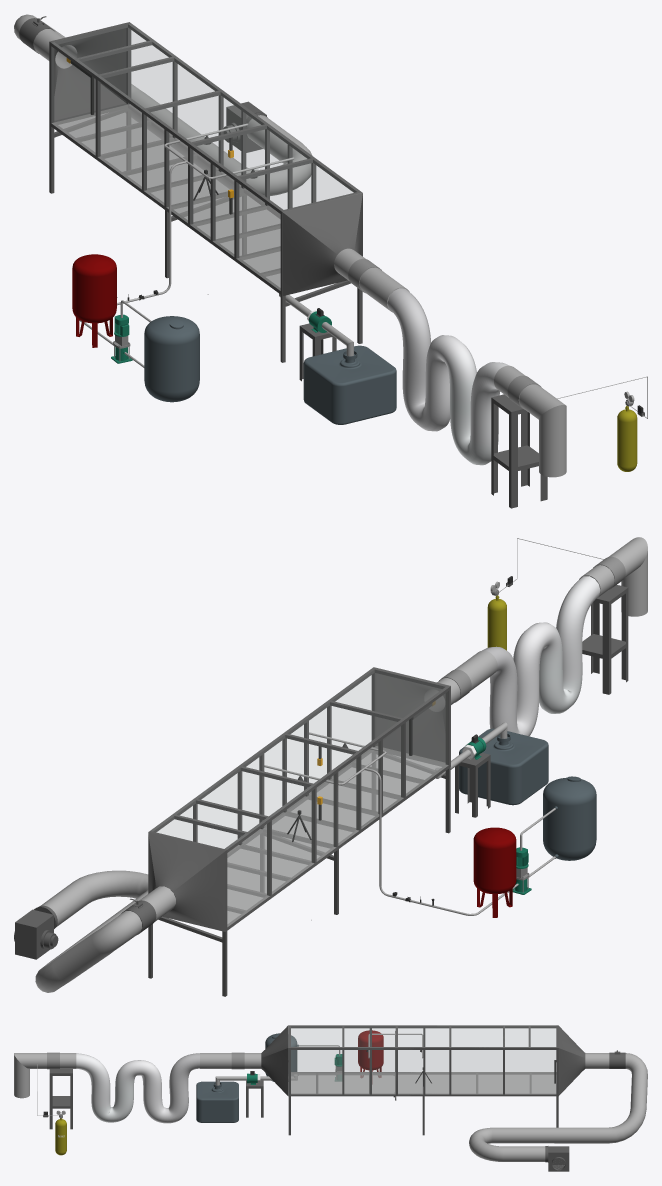
Rendered from ammonia-test_260304.fbx.
3 renders of one model, top to bottom at view 1: azimuth 30°, elevation 25°; view 2: azimuth 150°, elevation 25°; view 3: azimuth 270°, elevation 25°, orthographic. The views are drawn at different scales.
Visible parts, largest first — view 1: Vinyl.002, Vinyl.003, Floor, Softpipe, ½©1, ÃàÃ´1, ½ºÀ¬º£ÀÌ½º-¾ã°Ô1, Water_tank, ½©1.001, Pipe_L.001, Pessure_tank, º¸½º-µ¹Ãâ8[2].001 (+6 smaller); view 2: Vinyl.003, Vinyl.002, Floor, Softpipe, ½ºÀ¬º£ÀÌ½º-¾ã°Ô1, ½©1.001, º¸½º-µ¹Ãâ1.020, ÃàÃ´1, Water_tank, ½©1, Pessure_tank, º¸½º-µ¹Ãâ8[2].001 (+6 smaller); view 3: Vinyl.001, Floor, ½ºÀ¬º£ÀÌ½º-¾ã°Ô1, Vinyl.002, Softpipe, ÃàÃ´1, Pipe_L.001, ½©1, ½©1.001, Pessure_tank, Pipe_L.002, º¸½º-µ¹Ãâ8[2].001 (+8 smaller).
Boxes of the visible parts, <box> form: Vinyl.002: <box>53,24,355,208</box>; Vinyl.003: <box>52,47,279,289</box>; Floor: <box>51,104,280,290</box>; Softpipe: <box>387,288,508,465</box>; ½©1: <box>283,193,362,295</box>; ÃàÃ´1: <box>303,345,396,424</box>; ½ºÀ¬º£ÀÌ½º-¾ã°Ô1: <box>14,14,312,195</box>; Water_tank: <box>144,316,199,402</box>; ½©1.001: <box>54,28,126,120</box>; Pipe_L.001: <box>494,365,566,477</box>; Pessure_tank: <box>72,254,116,347</box>; º¸½º-µ¹Ãâ8[2].001: <box>491,394,547,508</box>; Vinyl.003: <box>228,692,447,925</box>; Vinyl.002: <box>151,670,443,848</box>; Floor: <box>227,746,448,926</box>; Softpipe: <box>482,576,600,736</box>; ½ºÀ¬º£ÀÌ½º-¾ã°Ô1: <box>35,870,175,992</box>; ½©1.001: <box>148,832,225,931</box>; º¸½º-µ¹Ãâ1.020: <box>373,667,450,766</box>; ÃàÃ´1: <box>459,728,548,805</box>; Water_tank: <box>543,776,596,860</box>; ½©1: <box>377,674,444,761</box>; Pessure_tank: <box>473,827,516,917</box>; º¸½º-µ¹Ãâ8[2].001: <box>582,585,628,694</box>; Vinyl.001: <box>291,1050,555,1093</box>; Floor: <box>291,1072,556,1094</box>; ½ºÀ¬º£ÀÌ½º-¾ã°Ô1: <box>469,1053,647,1161</box>; Vinyl.002: <box>291,1026,555,1047</box>; Softpipe: <box>76,1053,199,1123</box>; ÃàÃ´1: <box>196,1081,238,1122</box>; Pipe_L.001: <box>14,1053,76,1098</box>; ½©1: <box>261,1025,288,1095</box>; ½©1.001: <box>558,1026,585,1095</box>; Pessure_tank: <box>358,1030,383,1077</box>; Pipe_L.002: <box>200,1053,261,1068</box>; º¸½º-µ¹Ãâ8[2].001: <box>49,1069,72,1129</box>.
Size of the model in its own units: 441 by 204 by 1184.
13 materials, 1 textured.
